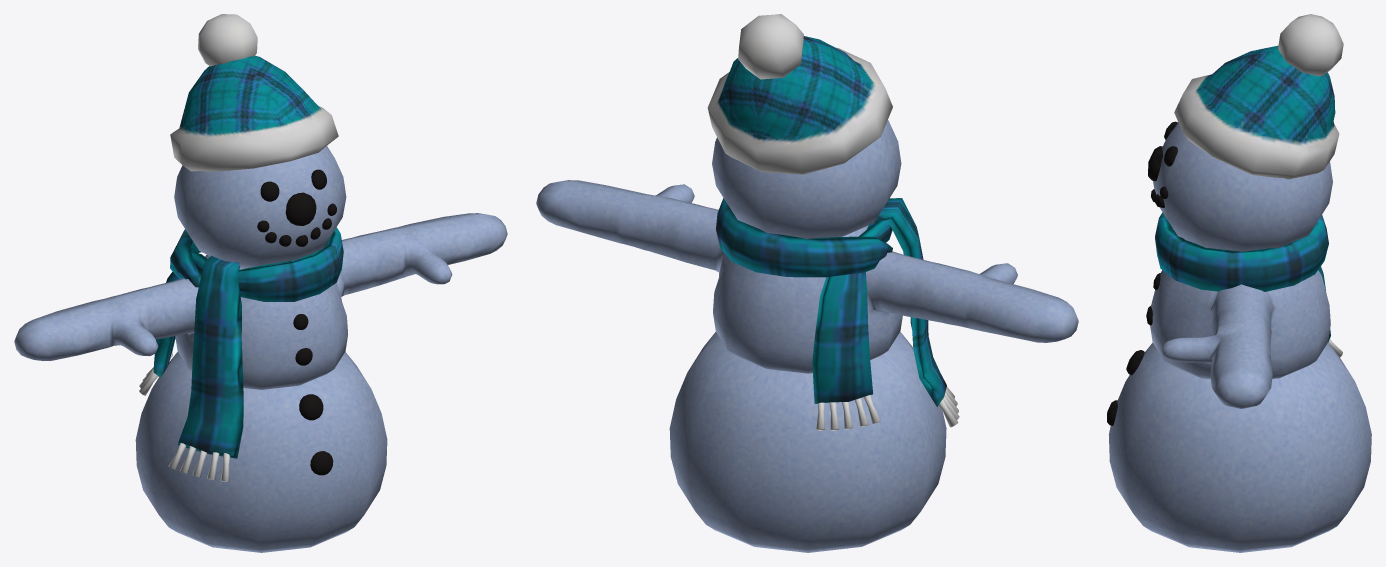
File: MunecoClank.gltf
3 views of the same model, side by side, from view 1: azimuth 30°, elevation 25°; view 2: azimuth 150°, elevation 25°; view 3: azimuth 270°, elevation 25° (orthographic). The views are drawn at different scales.
Parts seen in each view (by area): view 1: Mesh_5_Mesh_5_mesh0004, Mesh_1_Mesh_1_mesh0000, Mesh_2_Mesh_2_mesh0001, Mesh_4_Mesh_4_mesh0003; view 2: Mesh_5_Mesh_5_mesh0004, Mesh_1_Mesh_1_mesh0000, Mesh_2_Mesh_2_mesh0001, Mesh_4_Mesh_4_mesh0003; view 3: Mesh_5_Mesh_5_mesh0004, Mesh_1_Mesh_1_mesh0000, Mesh_2_Mesh_2_mesh0001, Mesh_4_Mesh_4_mesh0003.
Boxes of the visible parts, x1=… form: Mesh_5_Mesh_5_mesh0004: x1=135, y1=227, x2=387, y2=552; Mesh_1_Mesh_1_mesh0000: x1=170, y1=14, x2=346, y2=268; Mesh_2_Mesh_2_mesh0001: x1=14, y1=213, x2=507, y2=389; Mesh_4_Mesh_4_mesh0003: x1=143, y1=215, x2=499, y2=389; Mesh_5_Mesh_5_mesh0004: x1=669, y1=198, x2=959, y2=552; Mesh_1_Mesh_1_mesh0000: x1=707, y1=14, x2=901, y2=238; Mesh_2_Mesh_2_mesh0001: x1=536, y1=180, x2=1078, y2=373; Mesh_4_Mesh_4_mesh0003: x1=567, y1=180, x2=937, y2=371; Mesh_5_Mesh_5_mesh0004: x1=1107, y1=212, x2=1371, y2=552; Mesh_1_Mesh_1_mesh0000: x1=1148, y1=14, x2=1343, y2=251; Mesh_2_Mesh_2_mesh0001: x1=1150, y1=270, x2=1330, y2=408; Mesh_4_Mesh_4_mesh0003: x1=1150, y1=270, x2=1330, y2=390.
Bounding box in the file's own units: 5.04 × 4.7 × 2.29.
Materials: 1 (1 with a texture image).
